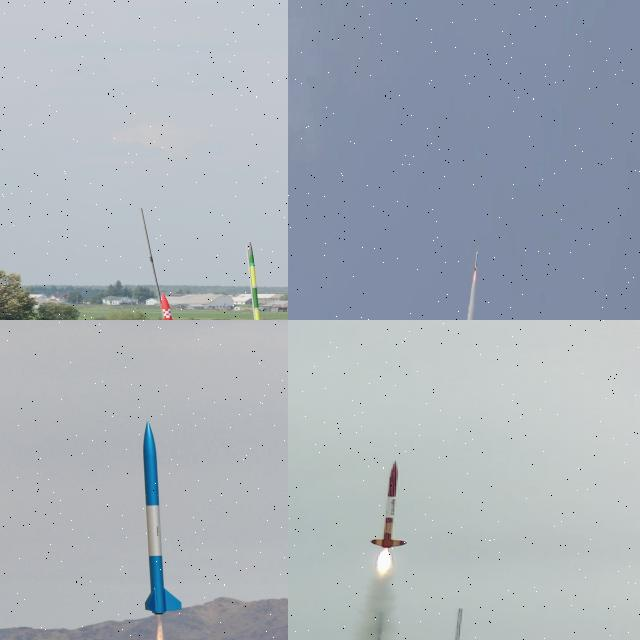Rocket: (141, 420, 183, 616), (369, 459, 408, 549), (248, 241, 261, 320), (474, 251, 478, 272)
